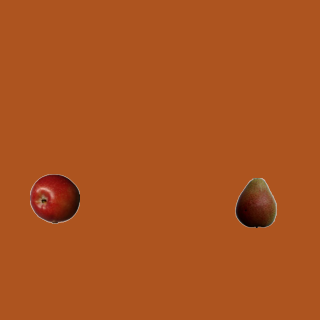Apple Braeburn: (29, 173, 79, 223)
Pear Forelle: (230, 177, 280, 227)
